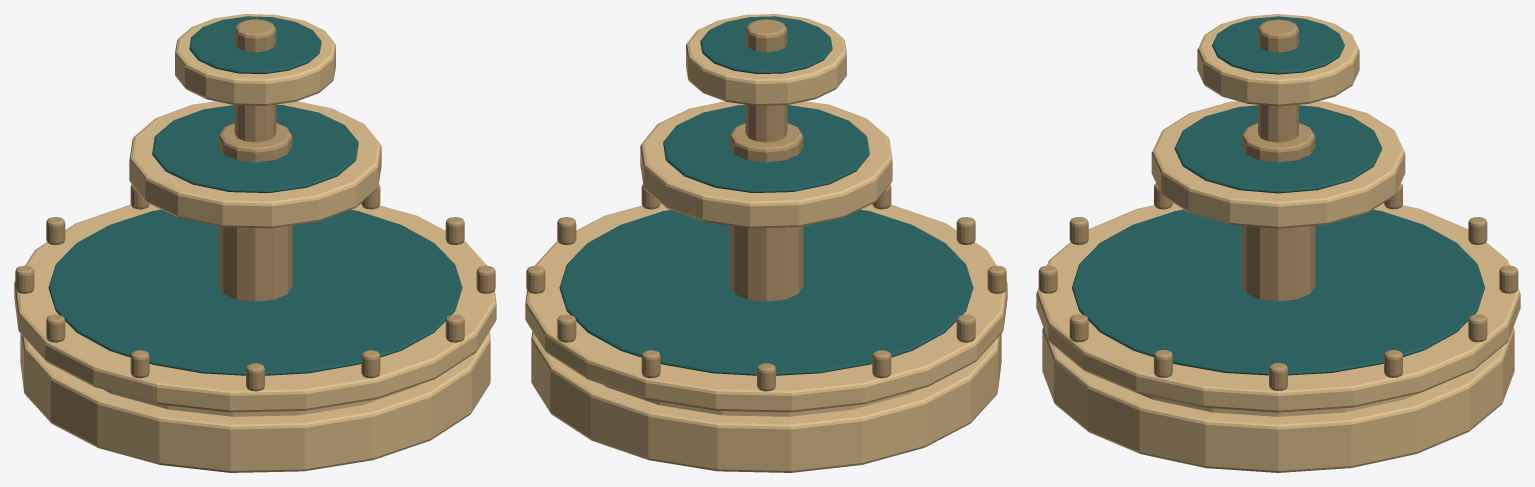
Rendered from courtyard_course_fountain.glb.
3 renders of one model, left to right at view 1: azimuth 30°, elevation 25°; view 2: azimuth 150°, elevation 25°; view 3: azimuth 270°, elevation 25°, orthographic.
Parts seen in each view (by area): view 1: courtyard_course_fountain; view 2: courtyard_course_fountain; view 3: courtyard_course_fountain.
Part boxes in pixels (left/top/right/bottom): courtyard_course_fountain: left=14, top=14, right=496, bottom=472; courtyard_course_fountain: left=525, top=14, right=1007, bottom=472; courtyard_course_fountain: left=1036, top=14, right=1520, bottom=472.
Size of the model in its own units: 3.28 by 2.6 by 3.28.
